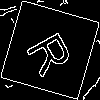R: (25, 25, 82, 79)
